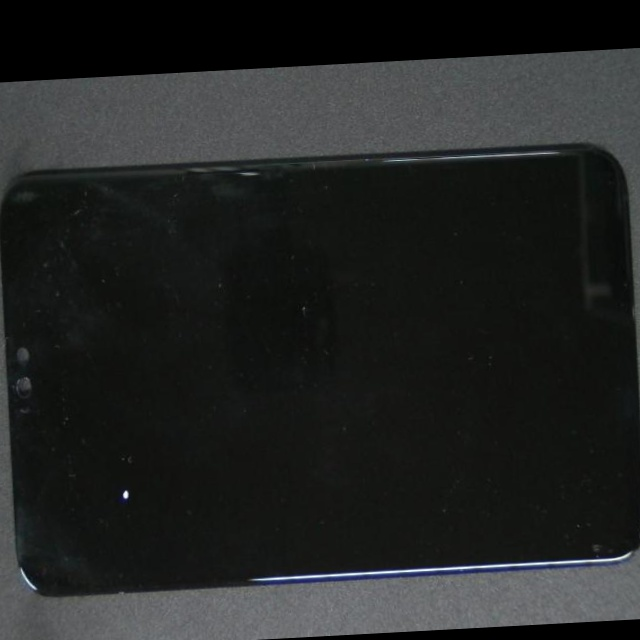stain: (44, 264, 200, 640)
